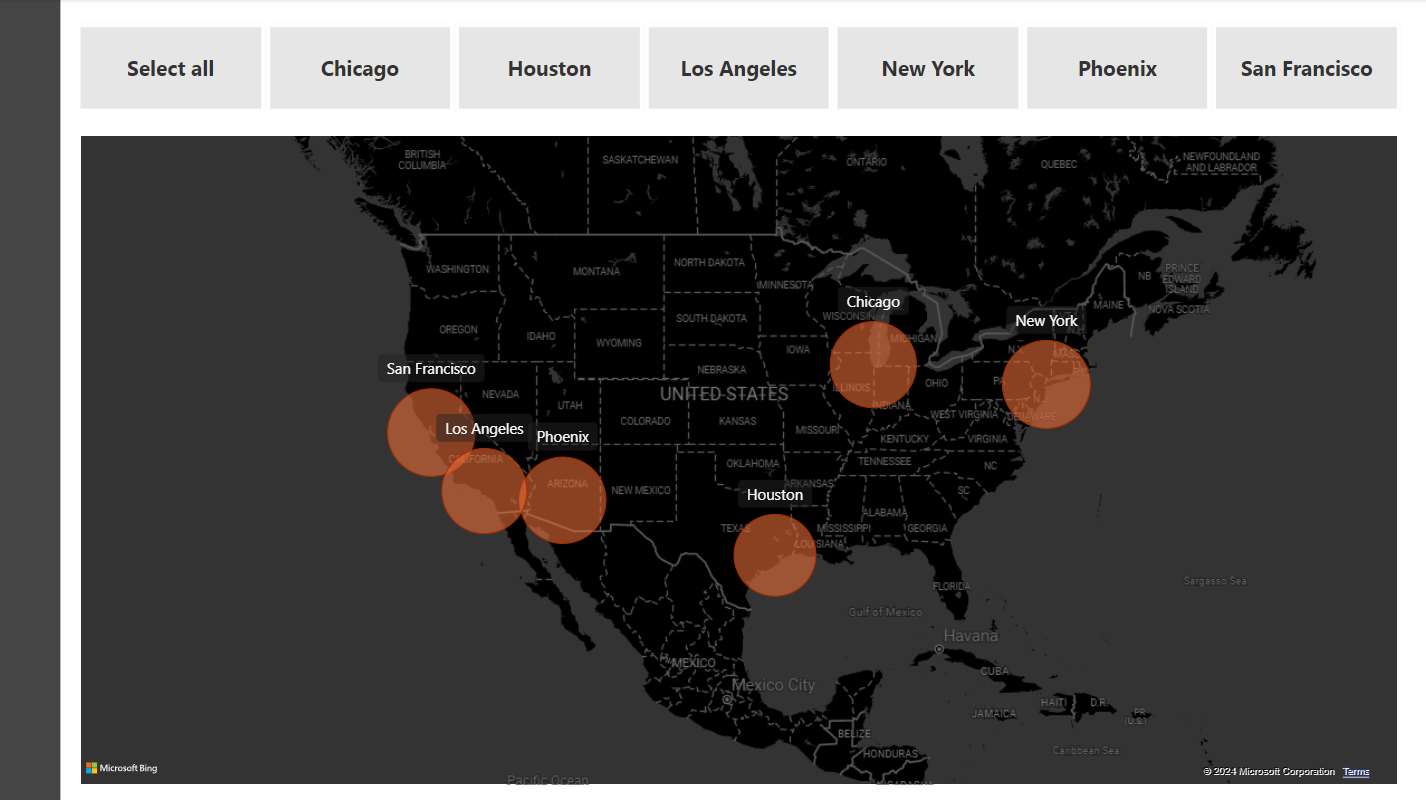

The dashboard page shown, as its layout file describes it:
{"tool":"powerbi","page":{"name":"Map","canvas":[1280,720],"ordinal":1},"visuals":[{"type":"shape","box":[0,0,55.9,720.3],"z":0},{"type":"slicer","fields":{"Values":["dim_customer_address.city"]},"box":[45,15,1235,92.5],"z":1000},{"type":"map","fields":{"Category":["dim_customer_address.state","dim_customer_address.city"],"Size":["Meausre Table.Total Sales"]},"box":[69,117,1189,591],"z":2000}]}

Visuals, with their boxes in screenshot pixels (x1, y1, x2, y2), scaled from the page's 1280x720 canvas onto the 1426x800 screenshot:
shape: l=0, t=0, r=62, b=799
slicer - dim_customer_address.city: l=50, t=17, r=1425, b=119
map - dim_customer_address.state x dim_customer_address.city: l=77, t=130, r=1401, b=787
